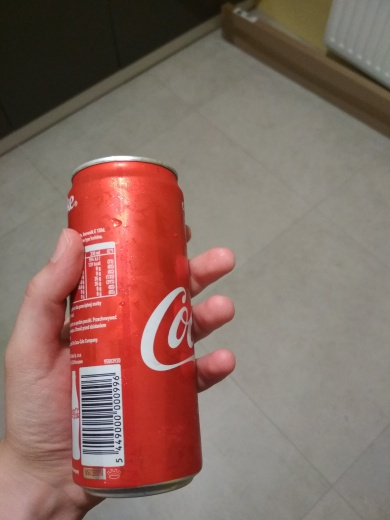cola: (56, 153, 210, 502)
